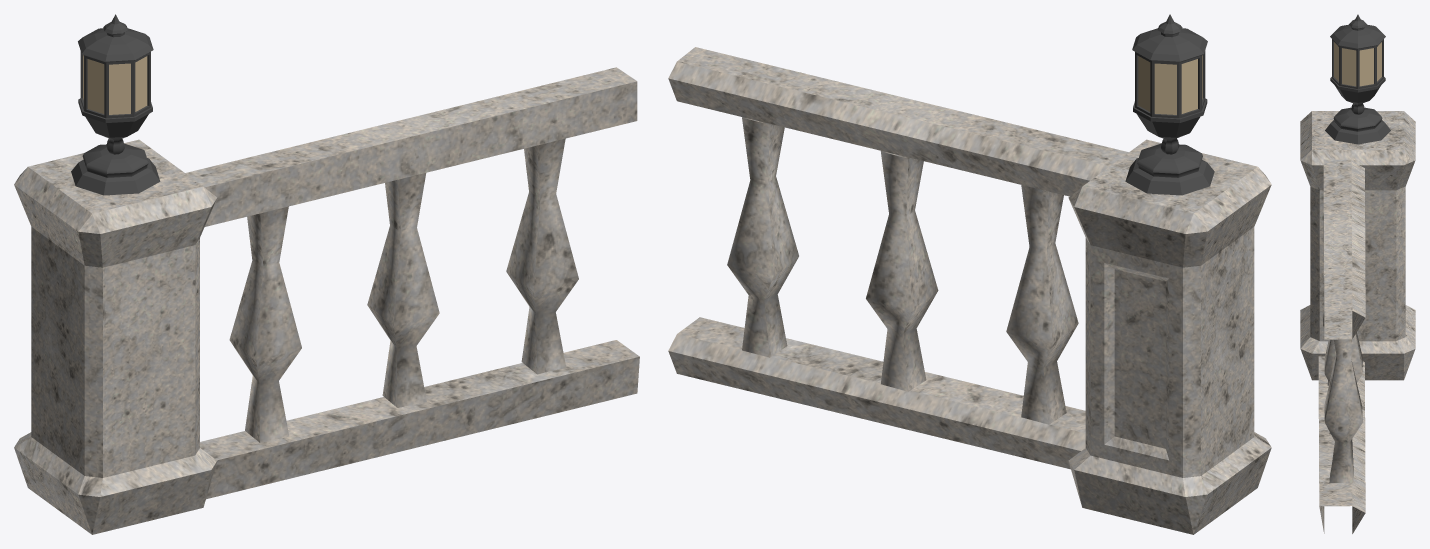
The model's file is Spooky_Fence_Art.fbx.
The picture shows the model from 3 angles, left to right: view 1: azimuth 30°, elevation 25°; view 2: azimuth 150°, elevation 25°; view 3: azimuth 270°, elevation 25°; orthographic projection. The views are drawn at different scales.
Parts seen in each view (by area): view 1: Spooky_Fence_Art; view 2: Spooky_Fence_Art; view 3: Spooky_Fence_Art.
Boxes of the visible parts, x1=… form: Spooky_Fence_Art: x1=14, y1=14, x2=639, y2=534; Spooky_Fence_Art: x1=668, y1=14, x2=1271, y2=534; Spooky_Fence_Art: x1=1300, y1=14, x2=1415, y2=533.
Size of the model in its own units: 147 by 119 by 35.9.
